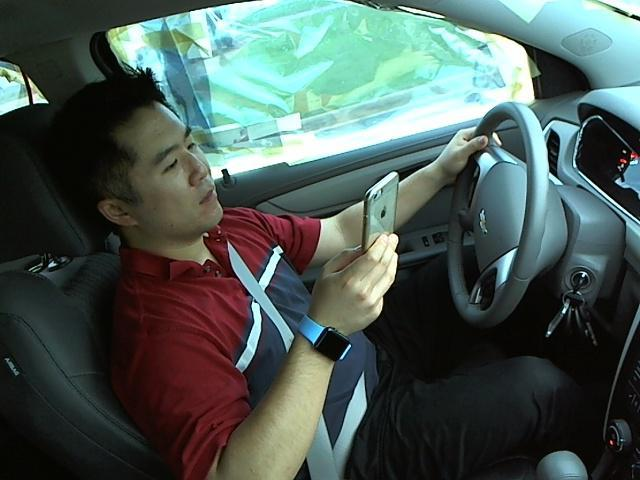PhoneUse: (357, 164, 405, 272)
